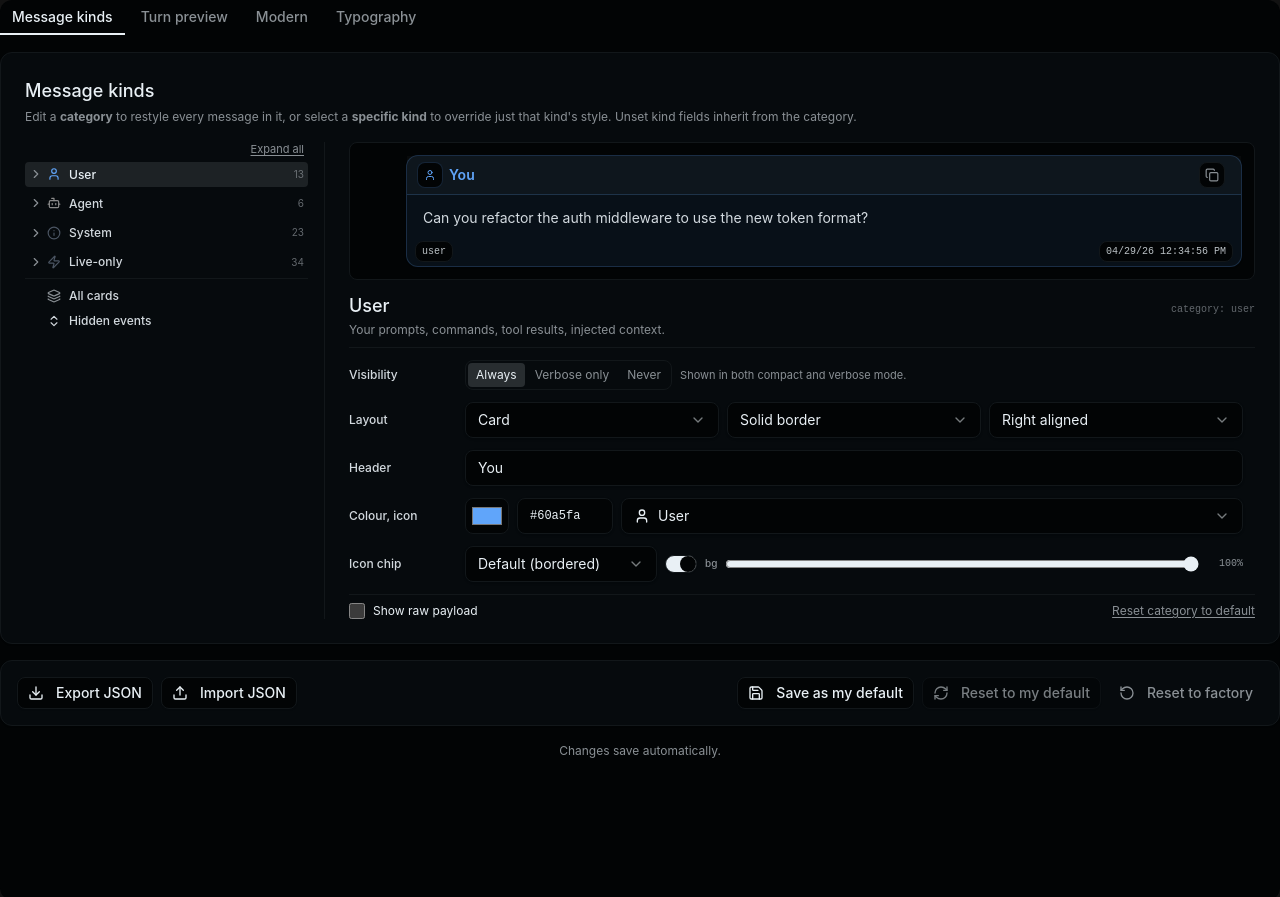
it: AppearanceSettings — compact kind editor rows › reverts a row to inherited with its one hint
Click the button "Expand all" at (277, 150), box [250, 142, 304, 158]
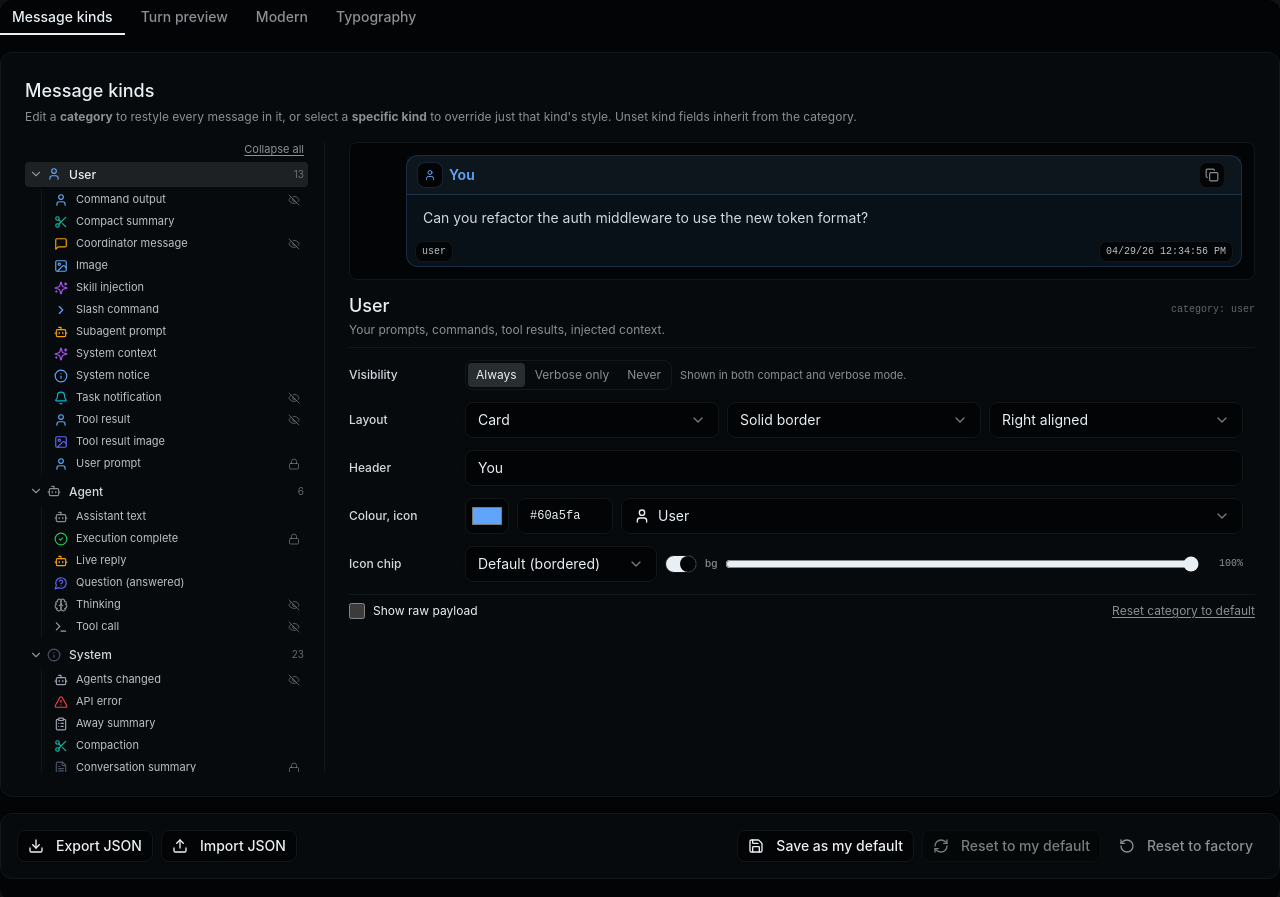
Click the button "Tool call" at (167, 627), box [54, 620, 280, 634]
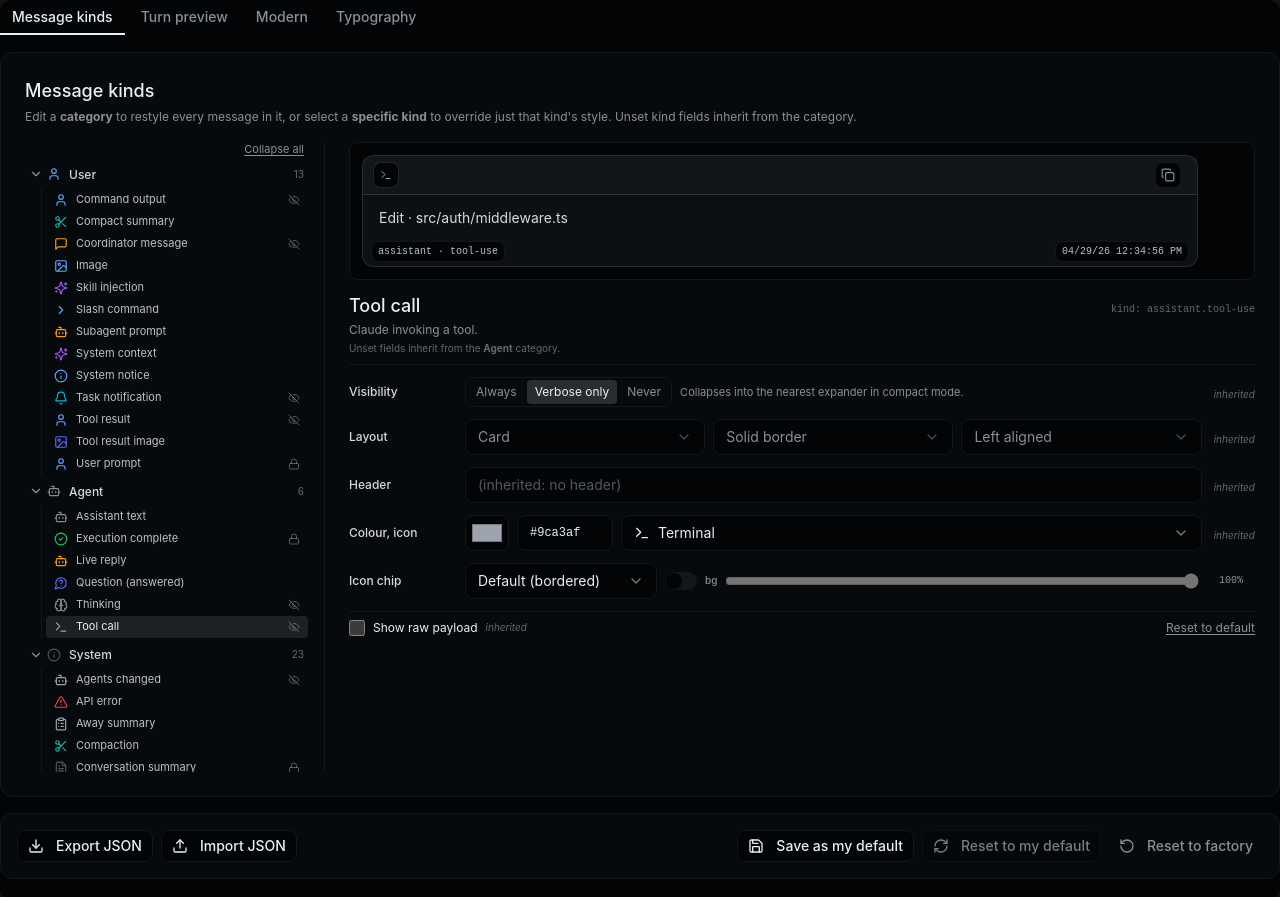
Click the radio button labelled "Never" at (644, 392), box [619, 380, 669, 404]
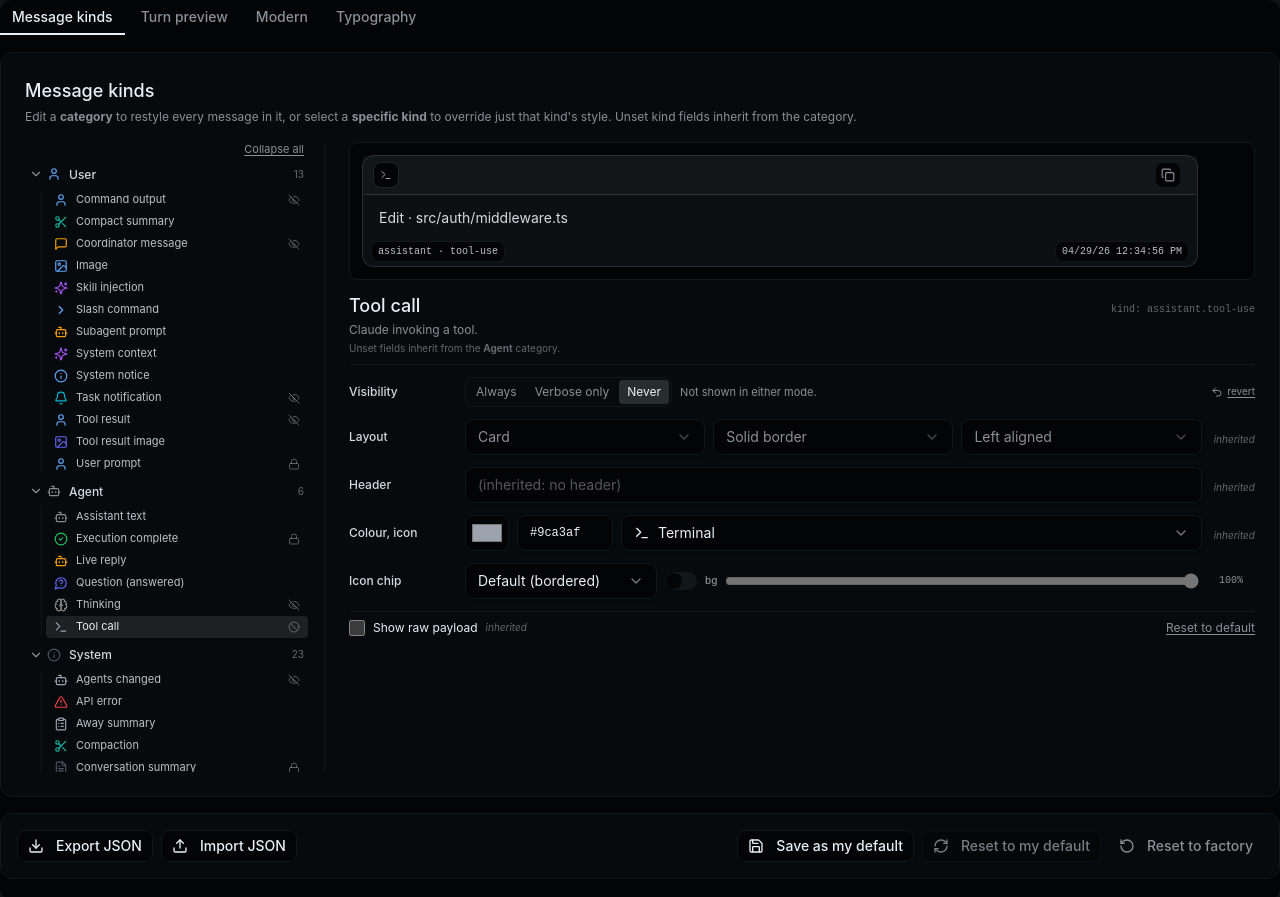
Click the button "revert" at (1233, 392), box [1211, 384, 1255, 399]
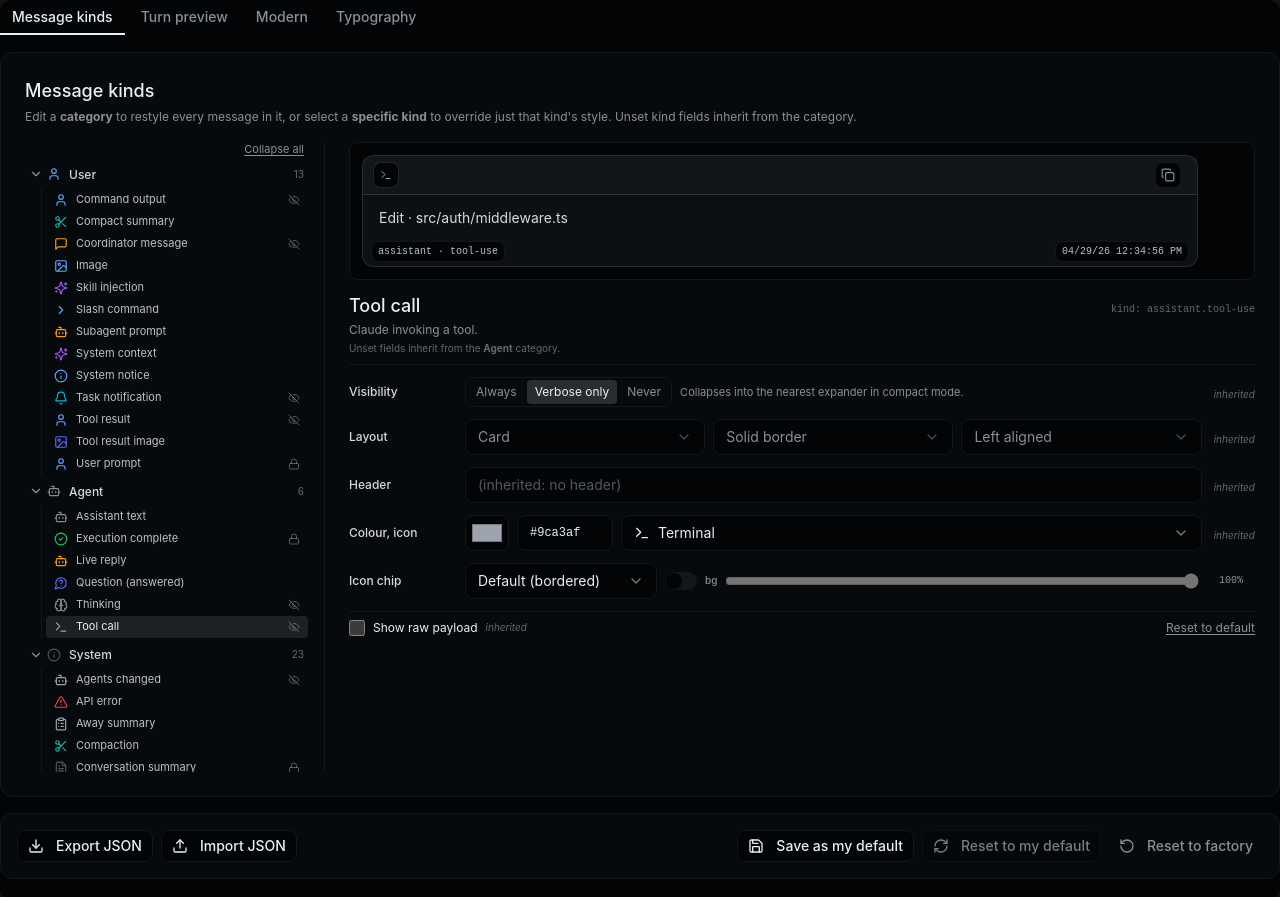
Expected: the text "inherited" in the row of "Visibility" is shown, [1214, 388, 1255, 400]
